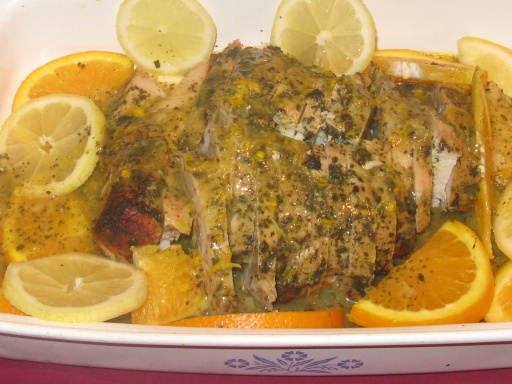background: (0, 0, 410, 199)
